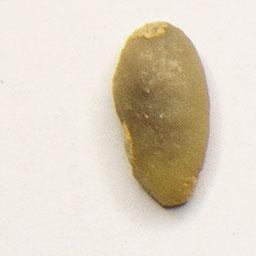longberry: (108, 17, 216, 211)
